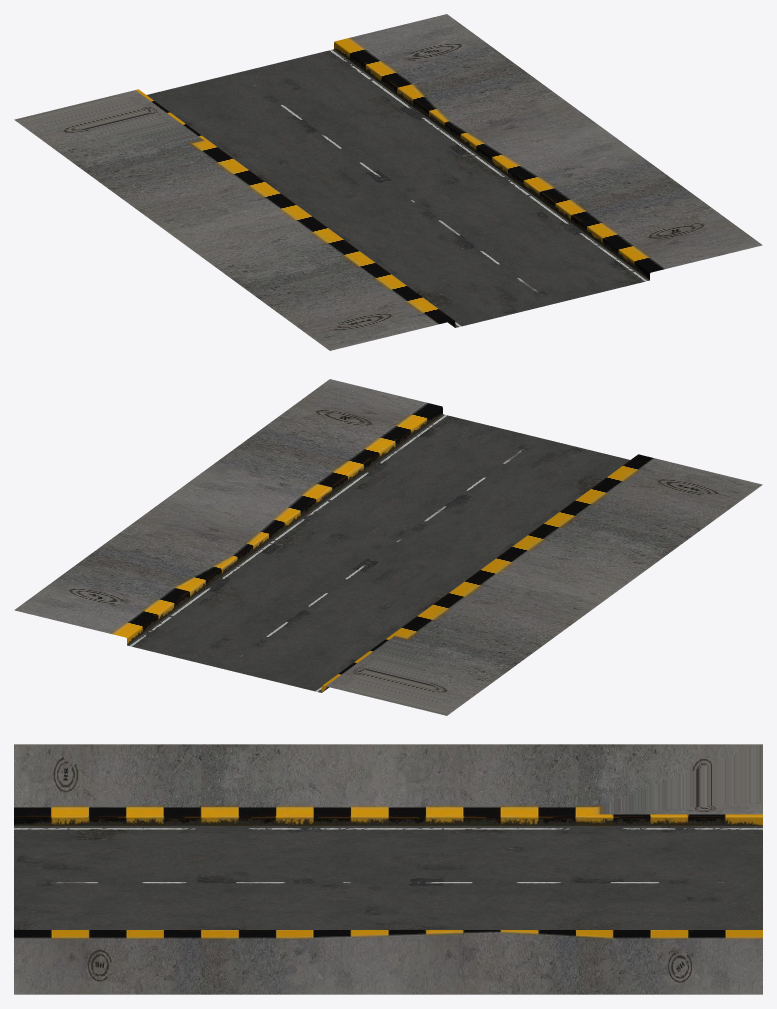
File: env-road.glb
The picture shows the model from 3 angles, top to bottom: view 1: azimuth 30°, elevation 25°; view 2: azimuth 150°, elevation 25°; view 3: azimuth 270°, elevation 25°; orthographic projection. The views are drawn at different scales.
Parts seen in each view (by area): view 1: Object_2; view 2: Object_2; view 3: Object_2.
Part boxes in pixels (x1,y1,x2,y2): Object_2: (14,14,762,350); Object_2: (14,379,762,715); Object_2: (14,744,762,994).
Size of the model in its own units: 40.44 by 0.6822 by 51.11.
1 material, 1 textured.
